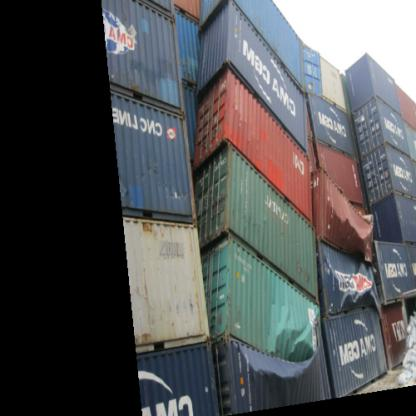Damage: (239, 291, 319, 382), (312, 251, 385, 310), (325, 188, 376, 247)
